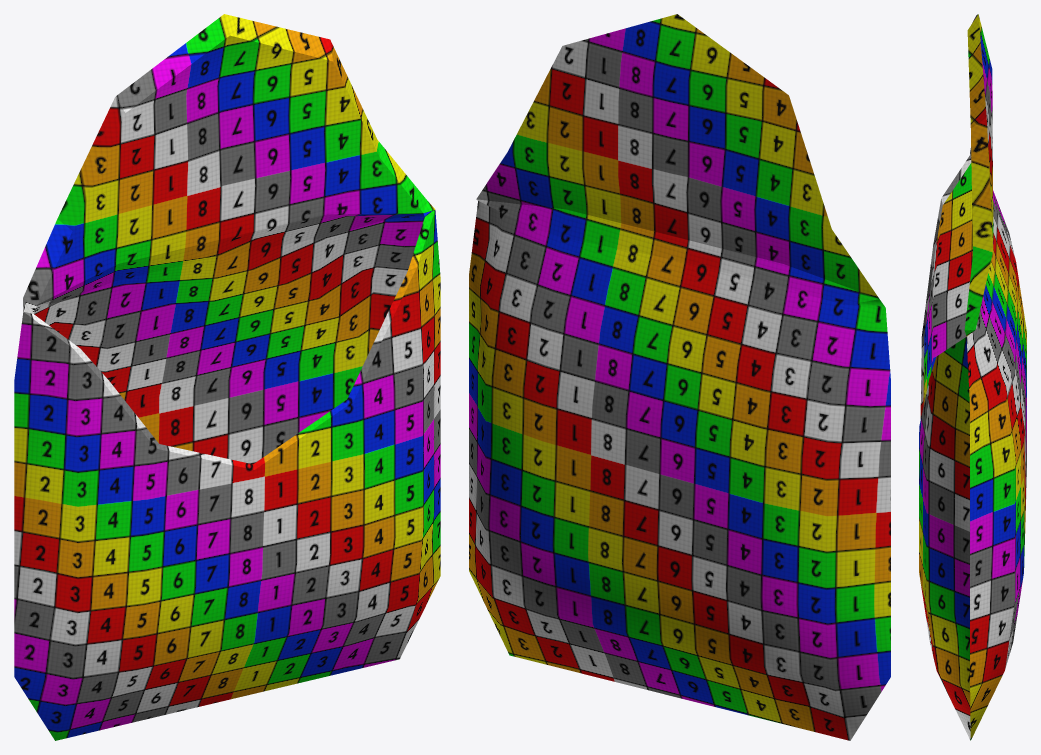
Rendered from e_enveloppe_ouverte.fbx.
The picture shows the model from 3 angles, left to right: view 1: azimuth 30°, elevation 25°; view 2: azimuth 150°, elevation 25°; view 3: azimuth 270°, elevation 25°; orthographic projection. The views are drawn at different scales.
Visible parts, largest first — view 1: pPlane10; view 2: pPlane10; view 3: pPlane10.
Part boxes in pixels (x1,y1,x2,y2): pPlane10: (14, 14, 440, 740); pPlane10: (469, 14, 890, 740); pPlane10: (919, 14, 1026, 740).
Size of the model in its own units: 1.05 by 1.63 by 0.2455.
Materials: 1 (1 with a texture image).
